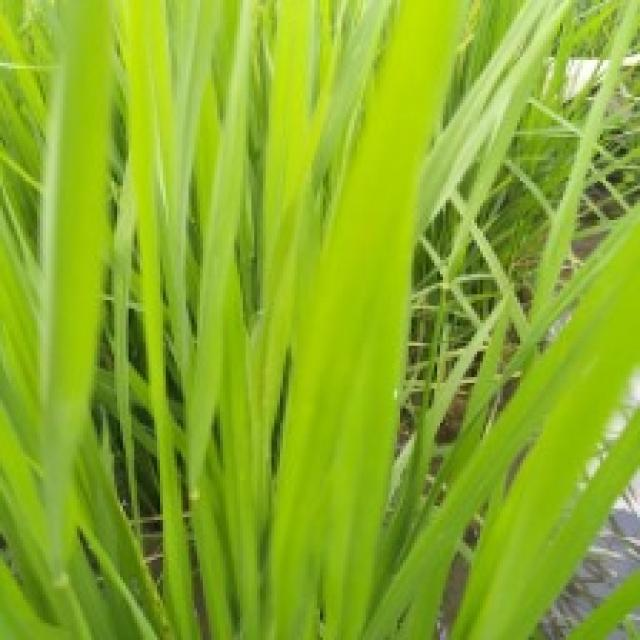Healthy-Plant: (258, 0, 440, 640), (466, 234, 637, 640), (122, 0, 194, 640), (34, 0, 105, 640), (520, 0, 629, 342), (194, 0, 242, 640)
